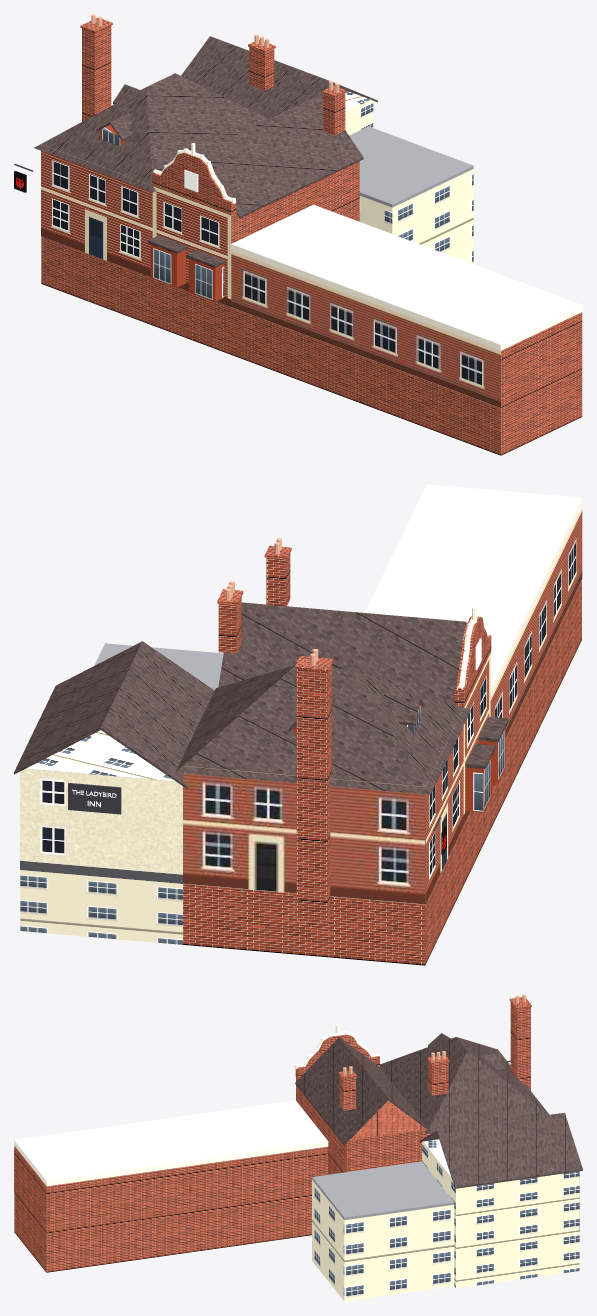
The model's file is ladybird.glb.
The picture shows the model from 3 angles, top to bottom: view 1: azimuth 30°, elevation 25°; view 2: azimuth 150°, elevation 25°; view 3: azimuth 270°, elevation 25°; orthographic projection. The views are drawn at different scales.
Visible parts, largest first — view 1: Main, MainRoof, ExtParapet, ExtFront, MainFront, Wing, BackRoof, BayFront, BayWindow; view 2: MainRoof, Main, NorthFront, ExtParapet, WingNorth, Wing, ExtFront, MainFront, BayWindow, BayFront, BackRoof, InnBoard; view 3: Main, Wing, MainRoof, ExtParapet, BackRoof.
Part boxes in pixels (<box>): Main: <box>41,17,582,455</box>; MainRoof: <box>34,36,377,267</box>; ExtParapet: <box>153,143,582,350</box>; ExtFront: <box>231,250,500,407</box>; MainFront: <box>41,144,152,276</box>; Wing: <box>345,91,473,264</box>; BackRoof: <box>349,126,473,207</box>; BayFront: <box>152,186,231,307</box>; BayWindow: <box>100,125,224,301</box>; MainRoof: <box>14,602,508,794</box>; Main: <box>183,545,581,965</box>; NorthFront: <box>183,766,424,904</box>; ExtParapet: <box>365,484,582,696</box>; WingNorth: <box>20,768,182,883</box>; Wing: <box>20,730,182,944</box>; ExtFront: <box>490,508,582,738</box>; MainFront: <box>425,708,463,903</box>; BayWindow: <box>293,705,505,812</box>; BayFront: <box>463,653,490,824</box>; BackRoof: <box>94,643,223,690</box>; InnBoard: <box>68,782,441,831</box>; Main: <box>14,997,531,1272</box>; Wing: <box>312,1139,579,1301</box>; MainRoof: <box>295,1033,582,1188</box>; ExtParapet: <box>14,1024,379,1186</box>; BackRoof: <box>312,1161,454,1220</box>.
Bounding box in the file's own units: 23.81 × 15.02 × 39.27.
16 materials, 11 textured.
